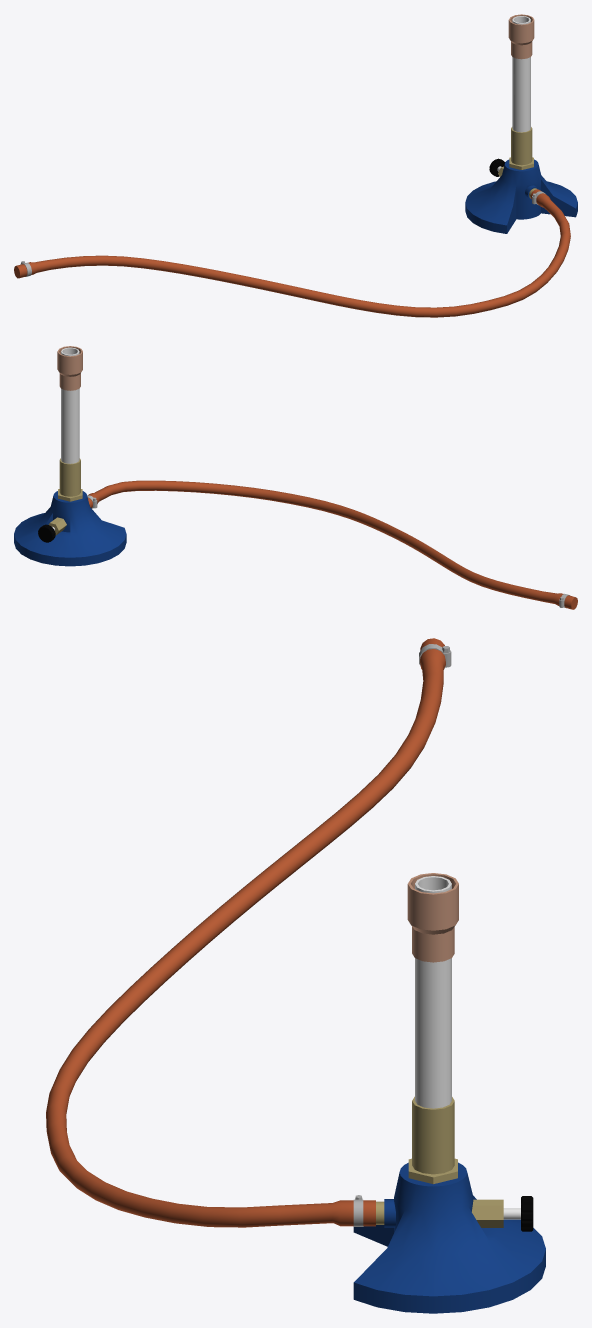
The model's file is Mechero Bunsen.dae.
3 renders of one model, top to bottom at view 1: azimuth 30°, elevation 25°; view 2: azimuth 150°, elevation 25°; view 3: azimuth 270°, elevation 25°, orthographic. The views are drawn at different scales.
Visible parts, largest first — view 1: Bunsen burner; view 2: Bunsen burner; view 3: Bunsen burner.
Boxes of the visible parts, <box> form: Bunsen burner: <box>14,14,577,317</box>; Bunsen burner: <box>14,346,577,609</box>; Bunsen burner: <box>46,638,545,1313</box>.
Bounding box in the file's own units: 0.4481 × 0.1754 × 0.148.
